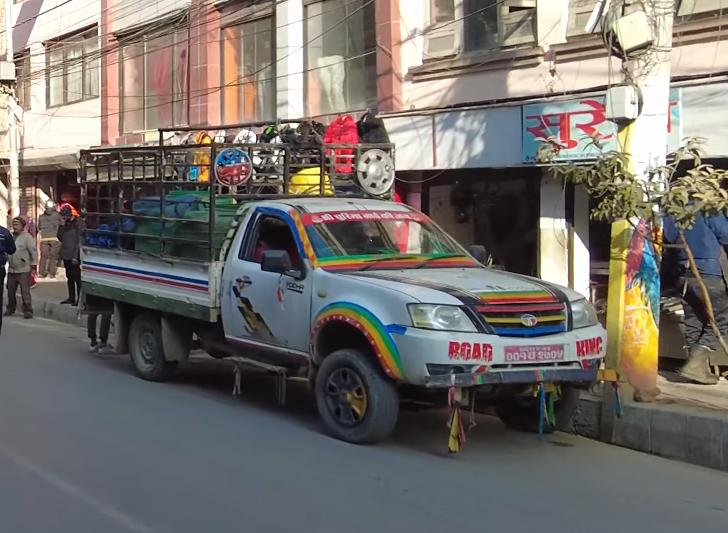transport_vehicle: (71, 136, 618, 455)
